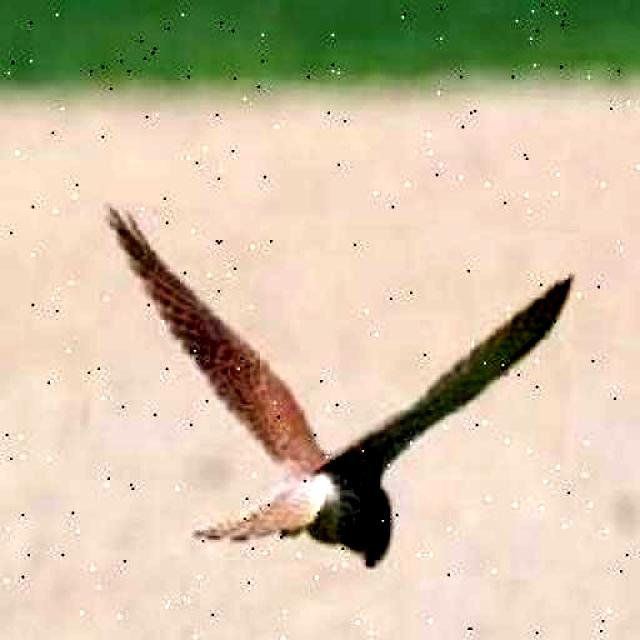airplane: (80, 202, 578, 582)
